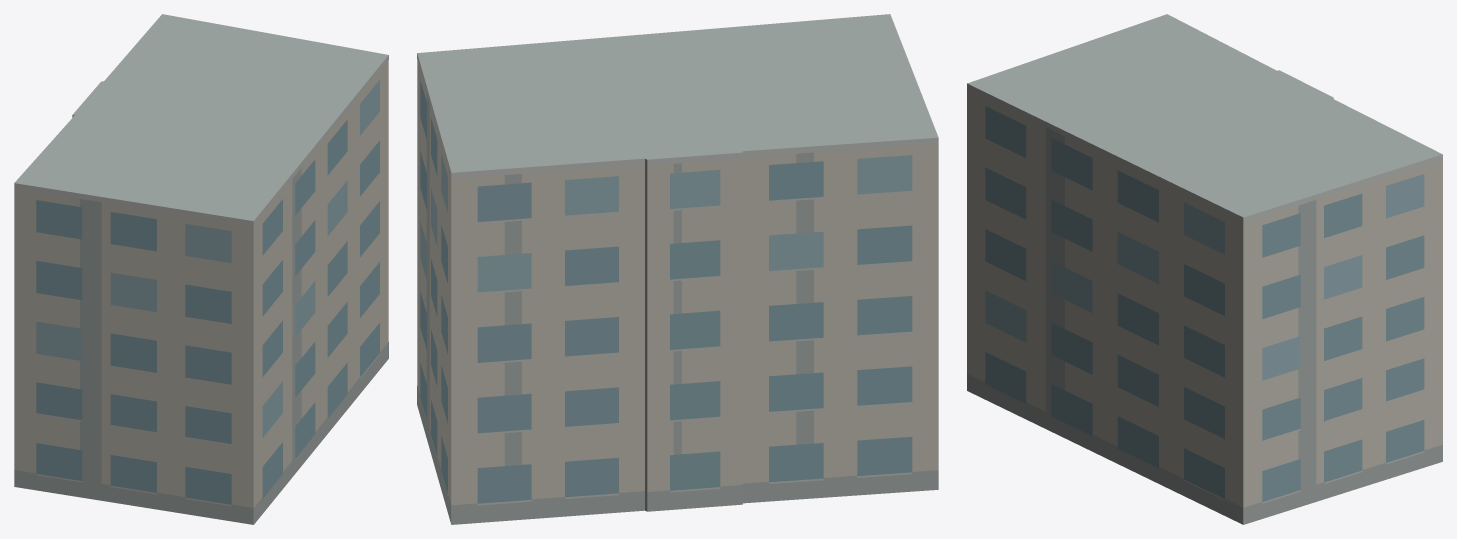
The model's file is survey-upis-32826308.glb.
3 renders of one model, left to right at view 1: azimuth 30°, elevation 25°; view 2: azimuth 150°, elevation 25°; view 3: azimuth 270°, elevation 25°, orthographic. The views are drawn at different scales.
Parts seen in each view (by area): view 1: survey-upis-32826308.tmp; view 2: survey-upis-32826308.tmp; view 3: survey-upis-32826308.tmp.
Boxes of the visible parts, box(x1,y1,x2,y2) form: survey-upis-32826308.tmp: box(14, 14, 388, 524); survey-upis-32826308.tmp: box(417, 14, 938, 524); survey-upis-32826308.tmp: box(967, 14, 1442, 524).
Size of the model in its own units: 19.75 by 13.9 by 19.51.
